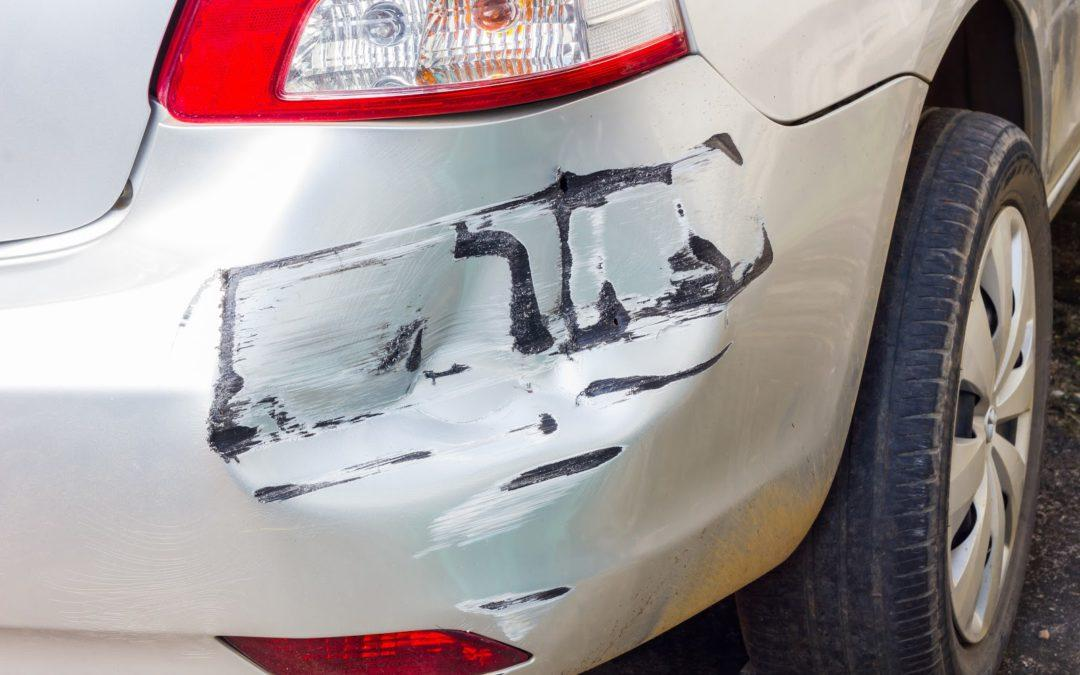dent: (230, 100, 804, 506)
scratch: (194, 126, 784, 624)
